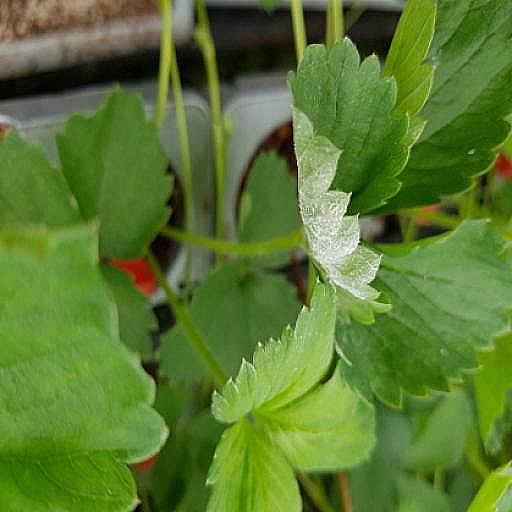Powdery Mildew Leaf: (285, 208, 412, 476)
